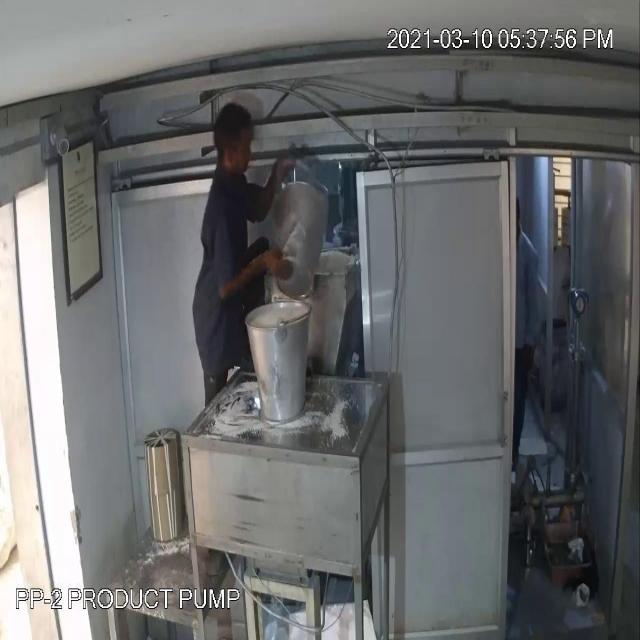No_Gloves: (211, 237, 295, 319)
